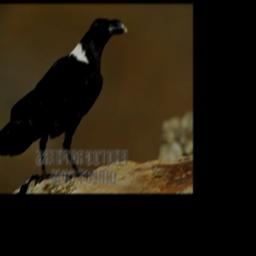Crow: (0, 18, 129, 186)
